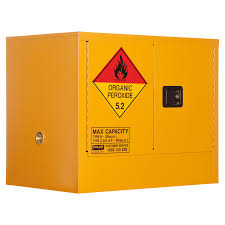OrganicPeroxide: (93, 47, 149, 118)
